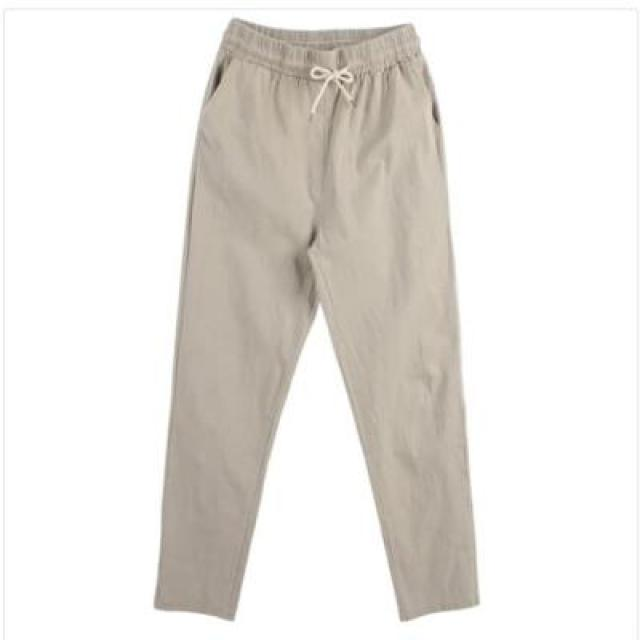long-pants: (152, 14, 484, 626)
